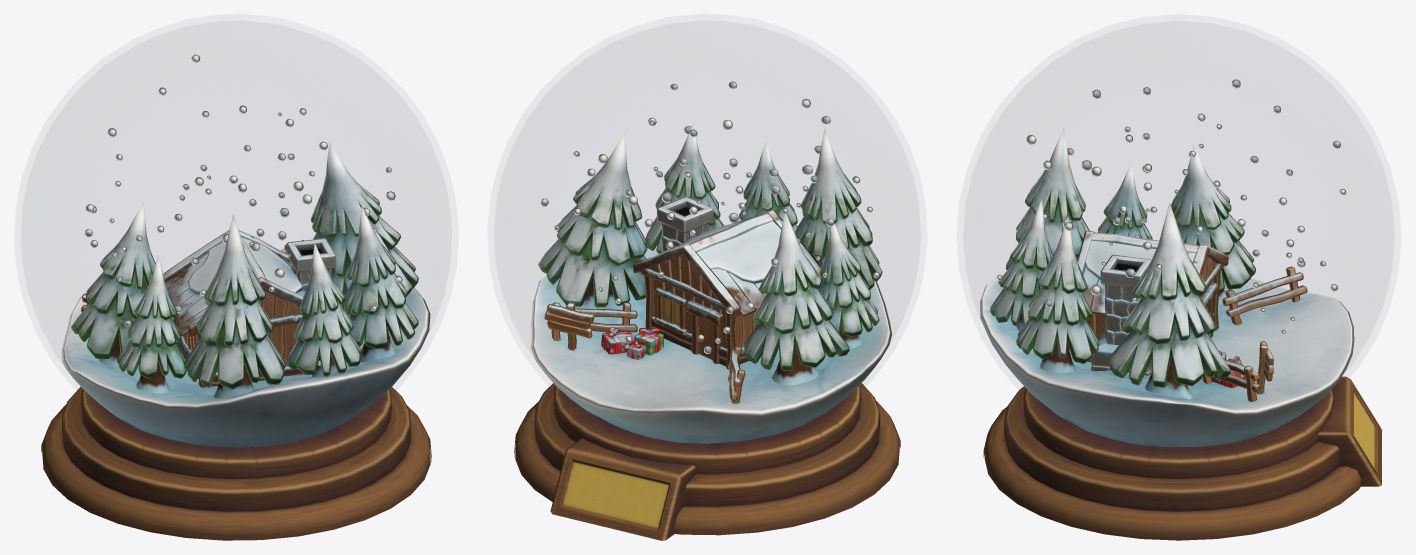
File: TTC-Christmas AR.glb
3 views of the same model, side by side, from view 1: azimuth 30°, elevation 25°; view 2: azimuth 150°, elevation 25°; view 3: azimuth 270°, elevation 25° (orthographic).
Parts seen in each view (by area): view 1: christmass_ball; view 2: christmass_ball; view 3: christmass_ball.
Boxes of the visible parts, x1,y1,x2,y2 form: christmass_ball: [41, 54, 431, 540]; christmass_ball: [514, 81, 900, 540]; christmass_ball: [979, 79, 1382, 540].
Size of the model in its own units: 20 by 21 by 20.
Materials: 2 (2 with a texture image).
